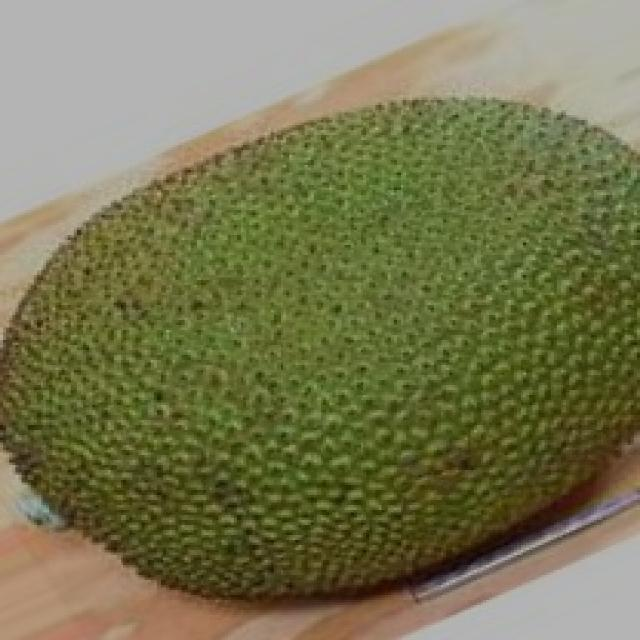Fruit: (237, 62, 640, 360)
